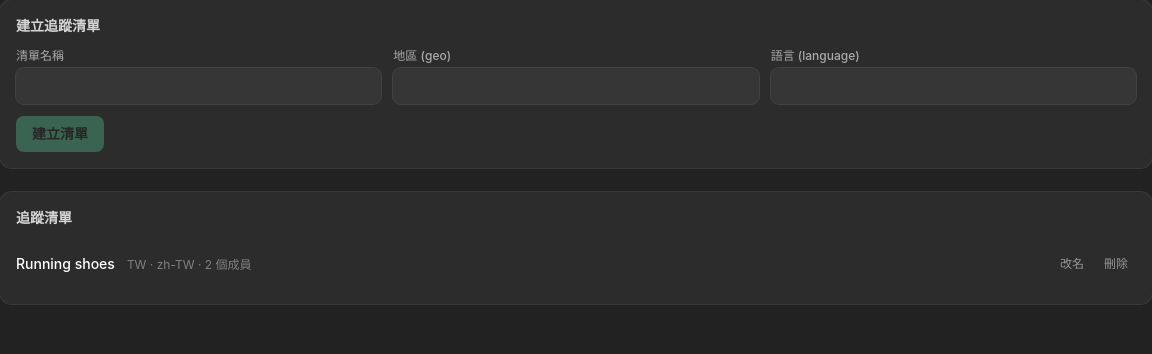
TC-40 · TrackingListsView › cancels an inline rename without a PATCH
Step 1. Click the button with aria-label "改名 Running shoes" → (1072, 264), box [1052,252,1092,276]
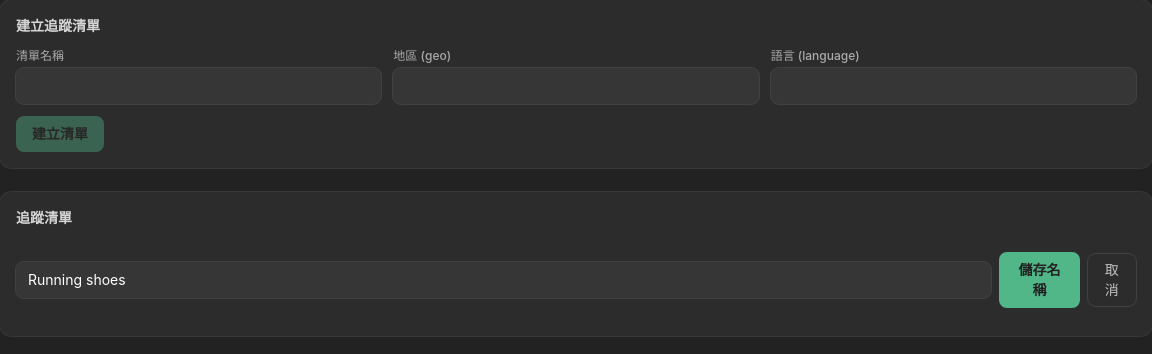
Step 2. Replace the text in the field named "重新命名 Running shoes" with "x" → (504, 280), box [16,262,991,298]
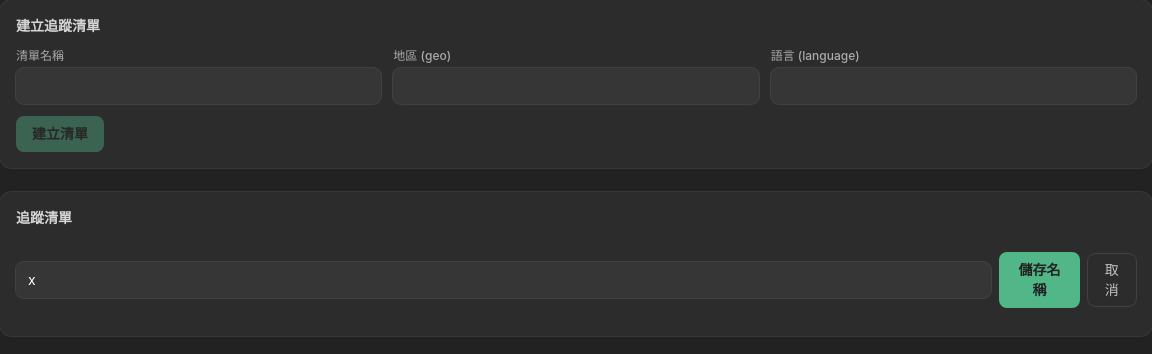
Step 3. Click the button "取消" → (1112, 280), box [1088,254,1136,306]
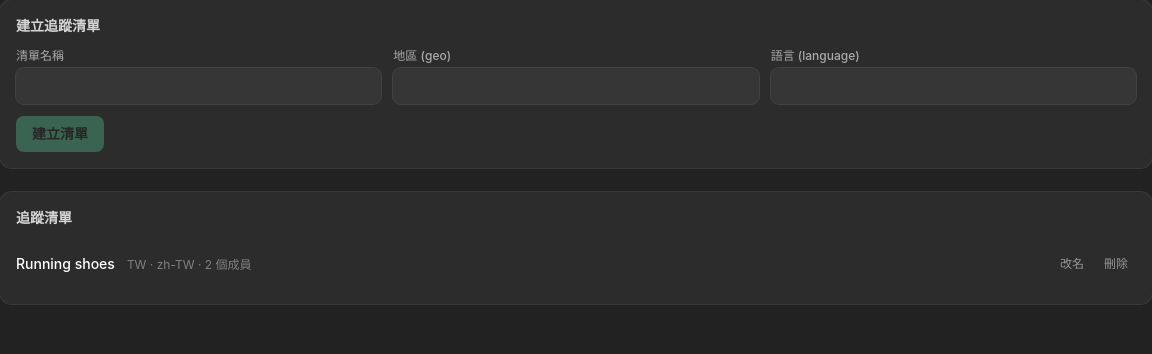
Expected: the button "Running shoes" is shown, [16,254,115,274]
